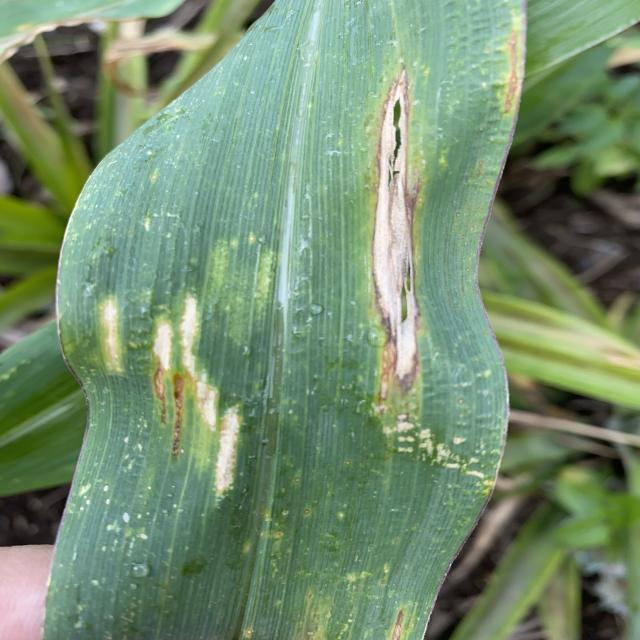Corn_Leaf_Blight: (57, 0, 514, 640)
